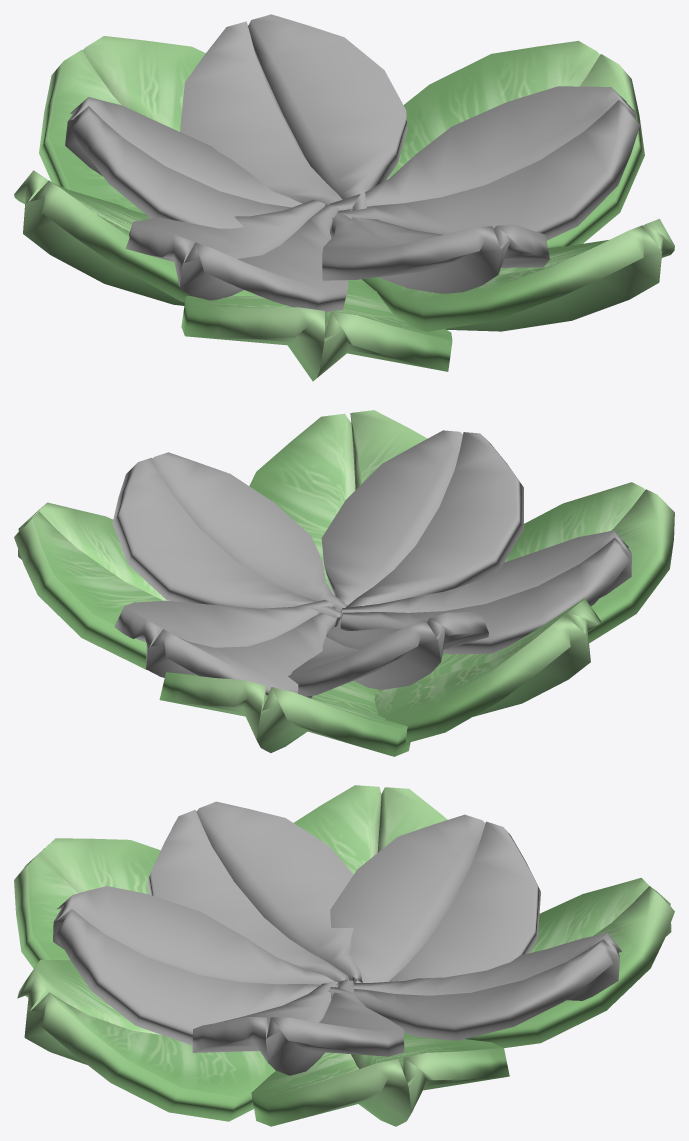
Rendered from WaterF.fbx.
3 views of the same model, one above another, from view 1: azimuth 30°, elevation 25°; view 2: azimuth 150°, elevation 25°; view 3: azimuth 270°, elevation 25° (orthographic). The views are drawn at different scales.
Visible parts, largest first — view 1: polySurface121, polySurface118; view 2: polySurface121, polySurface118; view 3: polySurface121, polySurface118.
Part boxes in pixels (left/top/right/bottom): polySurface121: left=65, top=14, right=640, bottom=312; polySurface118: left=14, top=36, right=674, bottom=381; polySurface121: left=112, top=430, right=631, bottom=698; polySurface118: left=14, top=410, right=674, bottom=756; polySurface121: left=53, top=801, right=621, bottom=1075; polySurface118: left=14, top=785, right=674, bottom=1126.
Bounding box in the file's own units: 0.9881 × 0.294 × 0.9973.
